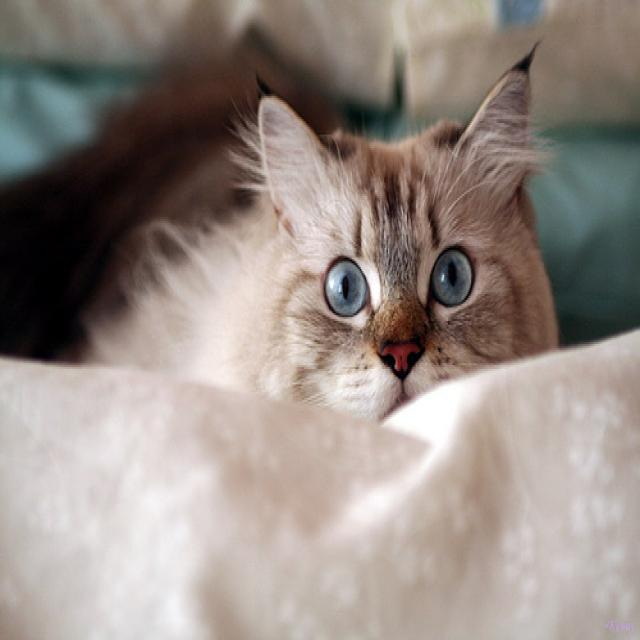left eye: (427, 242, 475, 310)
